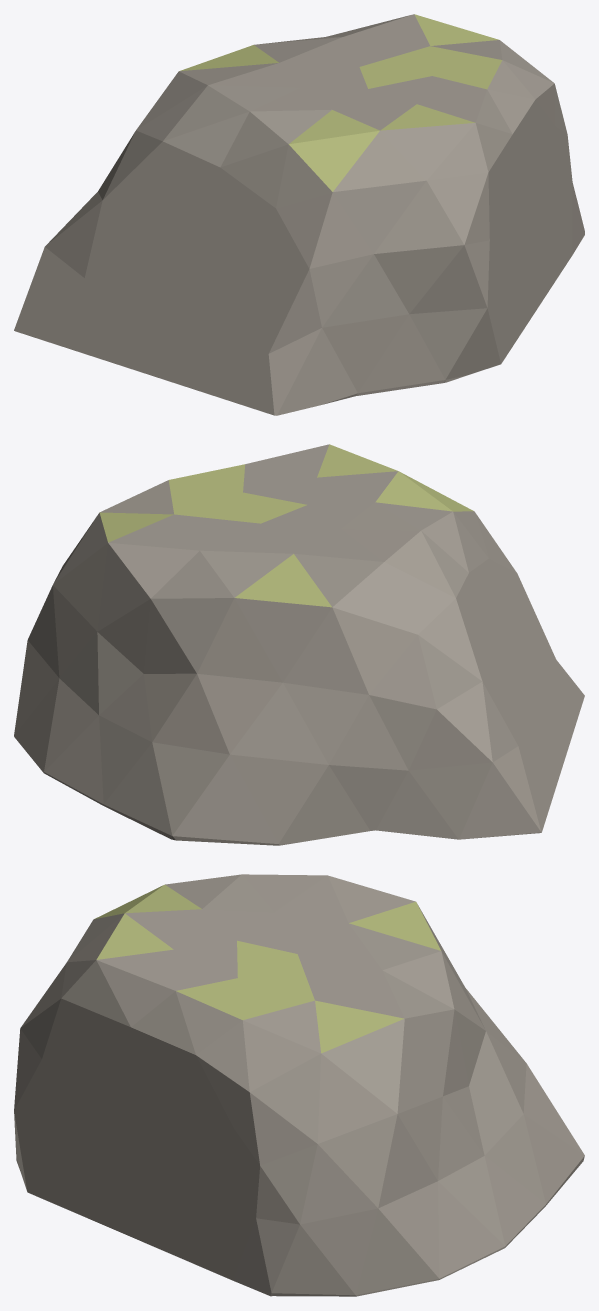
The model's file is boulder.glb.
3 renders of one model, top to bottom at view 1: azimuth 30°, elevation 25°; view 2: azimuth 150°, elevation 25°; view 3: azimuth 270°, elevation 25°, orthographic. The views are drawn at different scales.
Visible parts, largest first — view 1: boulder; view 2: boulder; view 3: boulder.
Boxes of the visible parts, x1,y1,x2,y2 form: boulder: (14,14,584,415); boulder: (14,444,584,845); boulder: (14,874,584,1296).
Size of the model in its own units: 1.39 by 0.5521 by 1.2.
